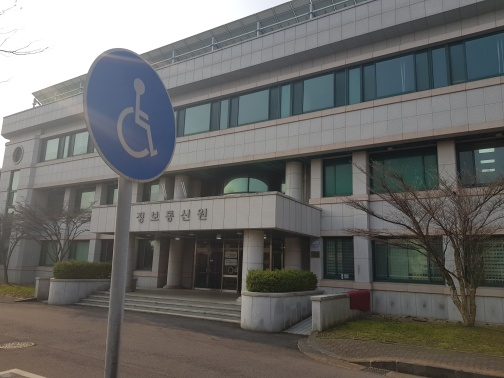Information Telecommunication Center: (135, 190, 347, 327), (136, 200, 226, 234)
